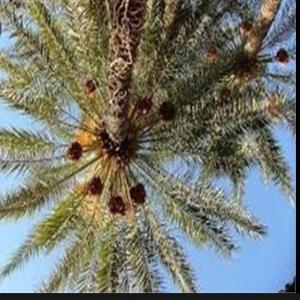palm tree: (0, 0, 296, 292)
